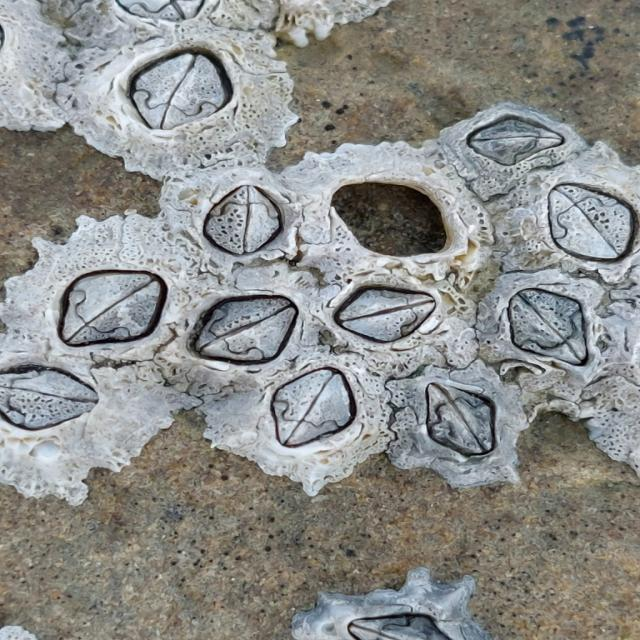barnacles: (289, 123, 480, 279), (7, 217, 198, 363), (71, 29, 275, 164), (0, 362, 187, 507), (218, 358, 396, 493), (474, 260, 627, 387), (389, 374, 542, 490), (499, 168, 637, 290), (294, 560, 492, 640), (160, 162, 291, 269), (320, 279, 474, 364), (441, 98, 574, 175)
